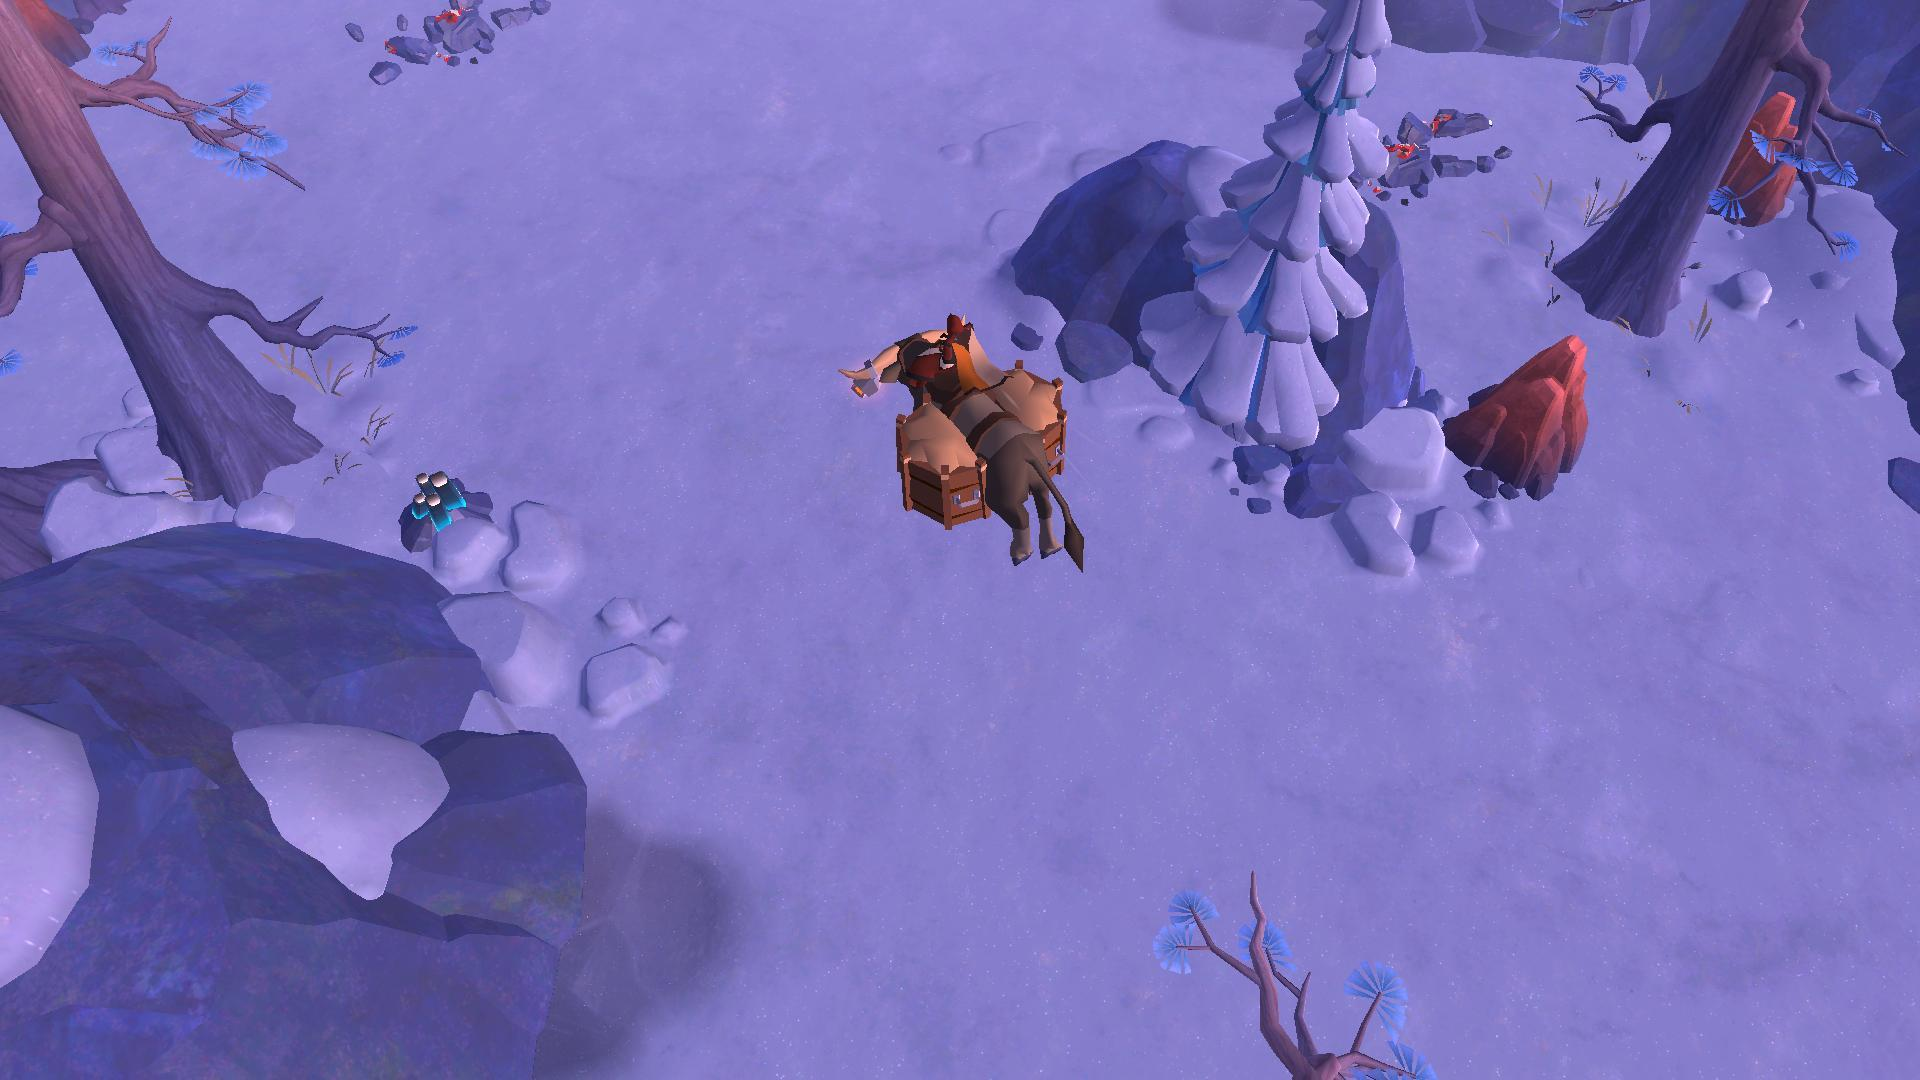ore_t4: (406, 469, 464, 533)
rock_t5: (1447, 331, 1593, 492), (1702, 92, 1811, 236)
